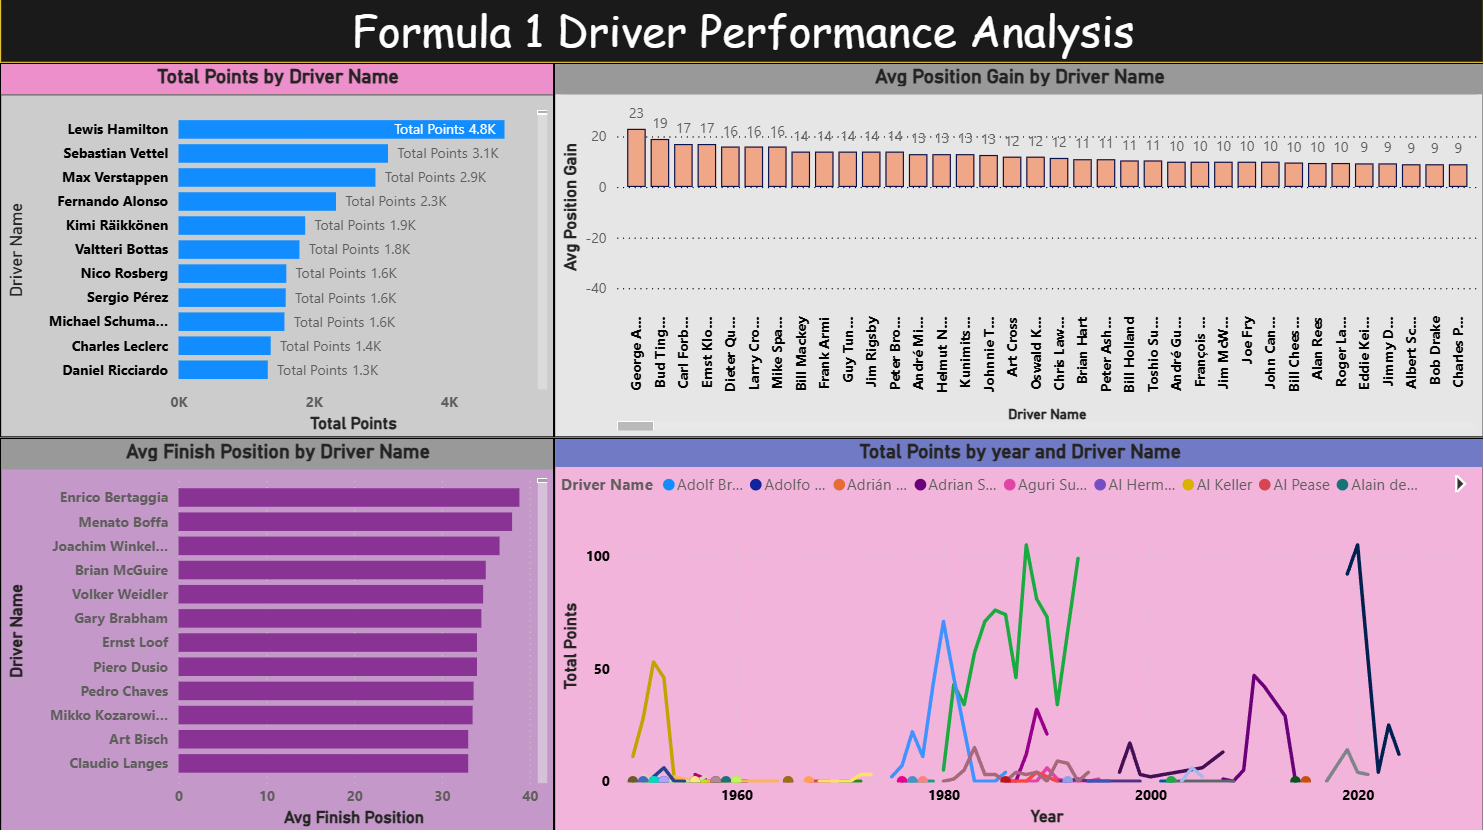

This screenshot's page, from the dashboard's own definition file:
{"tool":"powerbi","page":{"name":"Page 1","canvas":[1280,720],"ordinal":0},"visuals":[{"type":"barChart","fields":{"Category":["results.Driver Name"],"Y":["Constructor.Total Points"]},"box":[0,56.1,477.8,323.5],"z":0},{"type":"barChart","fields":{"Category":["results.Driver Name"],"Y":["Constructor.Avg Finish Position"]},"box":[0,379.5,477.8,340.7],"z":1000},{"type":"columnChart","fields":{"Category":["results.Driver Name"],"Y":["Constructor.Avg Position Gain"]},"box":[477.8,56.1,802.2,323.5],"z":2000},{"type":"lineChart","fields":{"Category":["races.year"],"Y":["Constructor.Total Points"],"Series":["results.Driver Name"]},"box":[477.6,379.3,802.4,340.4],"z":3000},{"type":"textbox","title":"Formula 1 Driver Performance Analysis","box":[0,0,1280,56.1],"z":3001}]}

Visuals, with their boxes in screenshot pixels (x1, y1, x2, y2), scaled from the page's 1280x720 canvas onto the 1483x830 screenshot:
barChart - results.Driver Name x Constructor.Total Points: detection(0, 65, 554, 438)
barChart - results.Driver Name x Constructor.Avg Finish Position: detection(0, 437, 554, 829)
columnChart - results.Driver Name x Constructor.Avg Position Gain: detection(554, 65, 1482, 438)
lineChart - races.year x Constructor.Total Points: detection(553, 437, 1482, 829)
"Formula 1 Driver Performance Analysis" textbox: detection(0, 0, 1482, 65)
